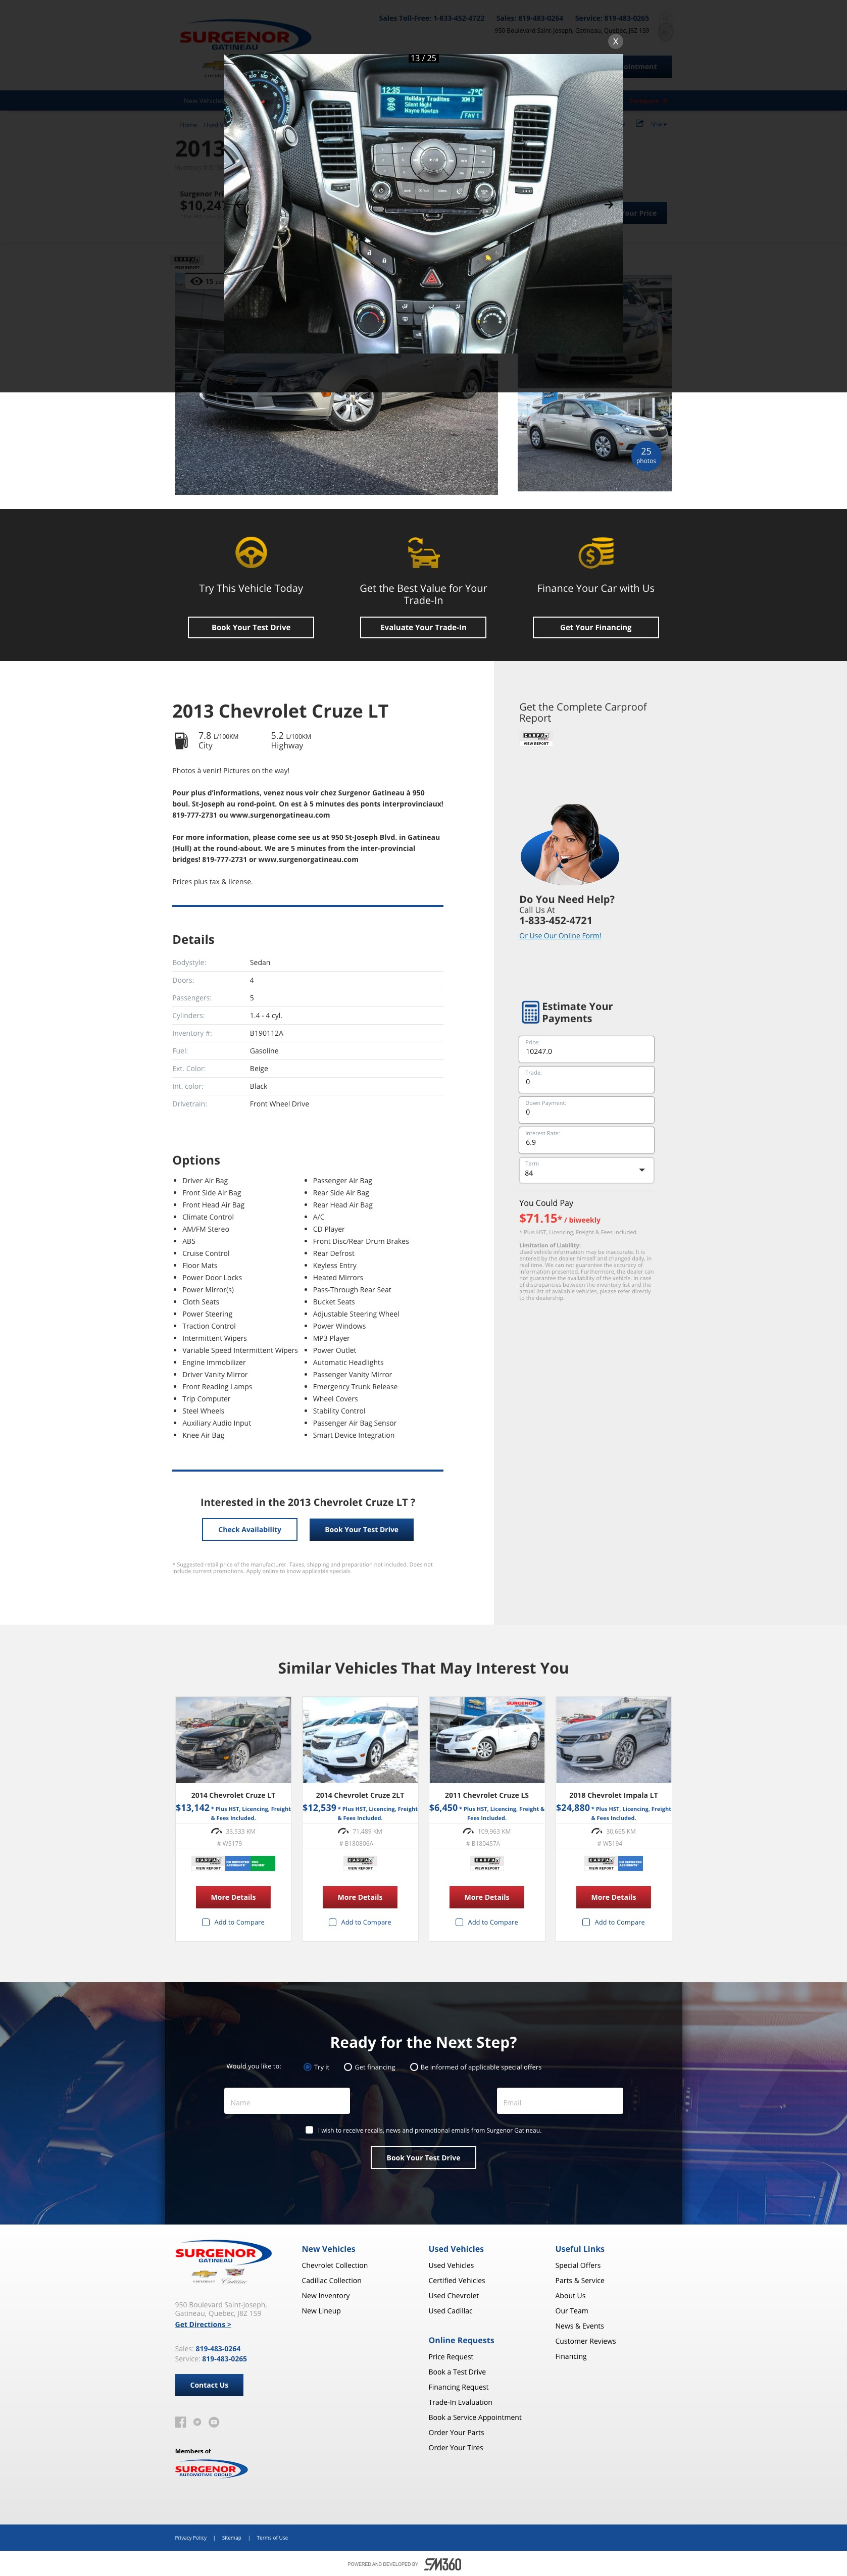car: (632, 440, 663, 473)
